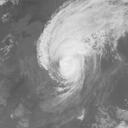cyclone: (36, 18, 102, 89)
